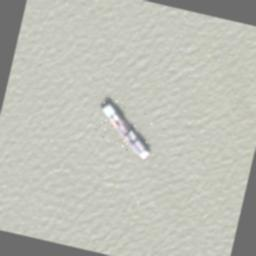boat: (91, 96, 160, 160)
